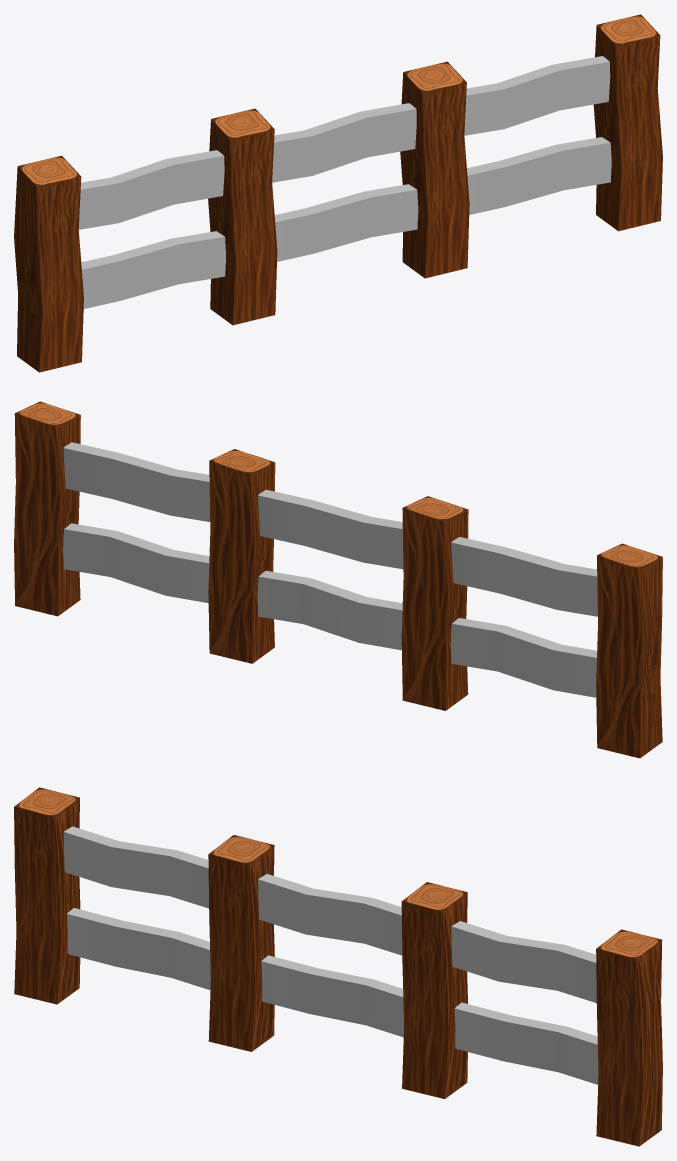
File: fence01.fbx
3 views of the same model, one above another, from view 1: azimuth 30°, elevation 25°; view 2: azimuth 150°, elevation 25°; view 3: azimuth 330°, elevation 25° (orthographic).
Visible parts, largest first — view 1: pfosten_main.003; view 2: pfosten_main.003; view 3: pfosten_main.003.
Boxes of the visible parts, left/top/right/bottom form: pfosten_main.003: left=14, top=14, right=662, bottom=372; pfosten_main.003: left=14, top=401, right=662, bottom=758; pfosten_main.003: left=14, top=787, right=662, bottom=1146.
Size of the model in its own units: 190 by 55.24 by 13.49.
